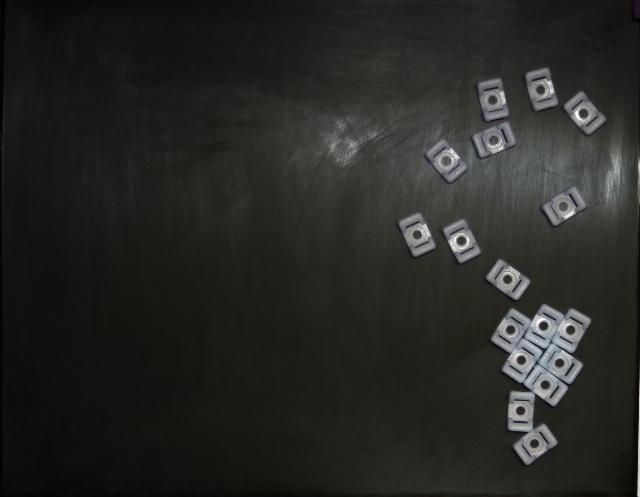first_side: (562, 91, 606, 135), (512, 424, 558, 466), (425, 140, 468, 182), (524, 365, 568, 406), (541, 186, 586, 226), (485, 260, 530, 300), (501, 339, 541, 384), (442, 219, 481, 264), (525, 304, 564, 349), (491, 309, 531, 352), (539, 345, 582, 385), (552, 309, 591, 352), (399, 212, 435, 258), (472, 122, 516, 159), (525, 68, 559, 111), (478, 79, 509, 121), (508, 391, 535, 432)
